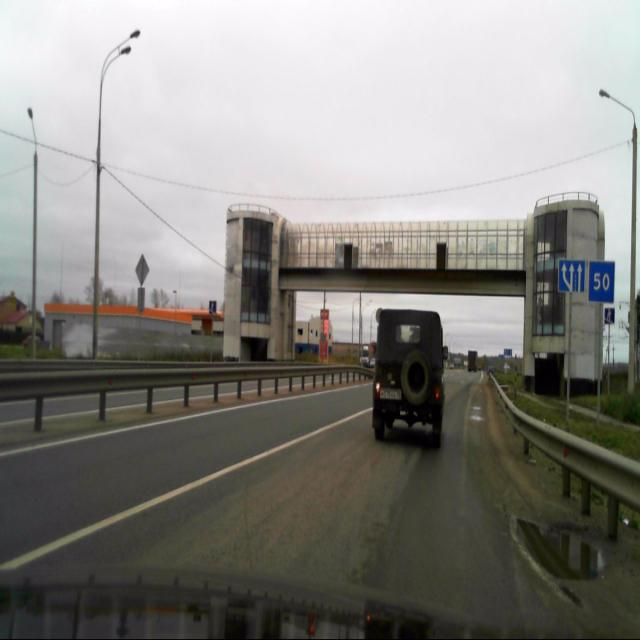road sign: (589, 261, 615, 301), (558, 259, 584, 292)
